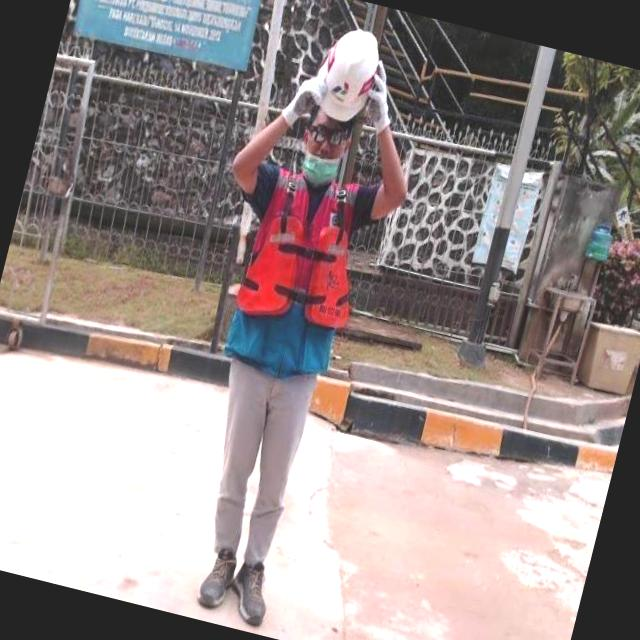vest: (220, 160, 377, 377)
